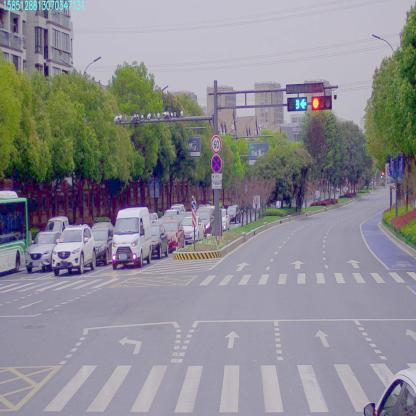traffic-light: (311, 99, 332, 113), (286, 97, 305, 110)
